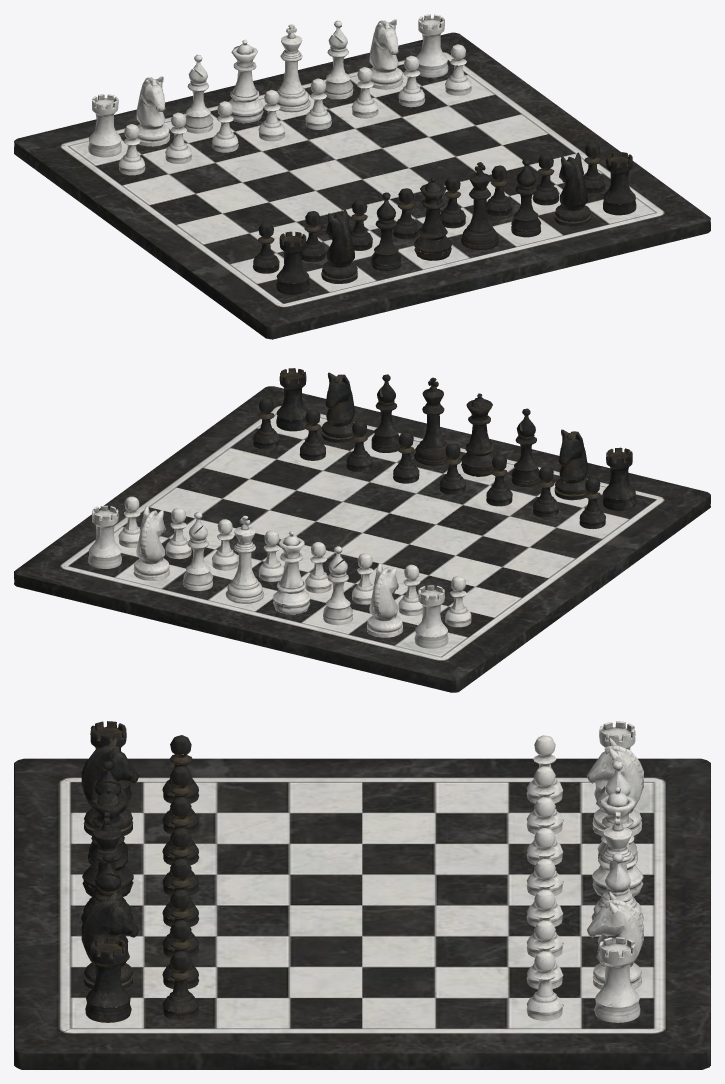
The model's file is chess_set.gltf.
The picture shows the model from 3 angles, top to bottom: view 1: azimuth 30°, elevation 25°; view 2: azimuth 150°, elevation 25°; view 3: azimuth 270°, elevation 25°; orthographic projection. The views are drawn at different scales.
Visible parts, largest first — view 1: board, piece_queen_black, piece_knight_black_01, piece_knight_black_02, piece_queen_white, piece_knight_white_01, piece_knight_white_02, piece_king_black, piece_king_white, piece_rook_black_02, piece_rook_black_01, piece_rook_white_02 (+21 smaller); view 2: board, piece_queen_white, piece_knight_white_02, piece_knight_white_01, piece_queen_black, piece_knight_black_02, piece_knight_black_01, piece_king_white, piece_king_black, piece_rook_white_02, piece_rook_black_01, piece_rook_white_01 (+21 smaller); view 3: board, piece_rook_white_01, piece_rook_black_02, piece_knight_black_02, piece_knight_white_01, piece_knight_white_02, piece_knight_black_01, piece_queen_white, piece_queen_black, piece_pawn_black_08, piece_pawn_white_01, piece_king_black (+21 smaller).
Boxes of the visible parts, x1=… form: board: x1=14, y1=32, x2=710, y2=339; piece_queen_black: x1=414, y1=177, x2=451, y2=260; piece_knight_black_01: x1=321, y1=209, x2=357, y2=283; piece_knight_black_02: x1=554, y1=152, x2=590, y2=227; piece_queen_white: x1=228, y1=39, x2=263, y2=123; piece_knight_white_01: x1=369, y1=19, x2=403, y2=89; piece_knight_white_02: x1=136, y1=76, x2=169, y2=146; piece_king_black: x1=461, y1=162, x2=499, y2=250; piece_king_white: x1=276, y1=24, x2=310, y2=112; piece_rook_black_02: x1=603, y1=152, x2=636, y2=215; piece_rook_black_01: x1=276, y1=231, x2=309, y2=294; piece_rook_white_02: x1=88, y1=94, x2=121, y2=157; board: x1=14, y1=386, x2=710, y2=692; piece_queen_white: x1=272, y1=531, x2=310, y2=614; piece_knight_white_02: x1=367, y1=563, x2=402, y2=637; piece_knight_white_01: x1=133, y1=506, x2=169, y2=580; piece_queen_black: x1=461, y1=393, x2=495, y2=476; piece_knight_black_02: x1=321, y1=372, x2=355, y2=443; piece_knight_black_01: x1=554, y1=429, x2=588, y2=500; piece_king_white: x1=225, y1=515, x2=264, y2=603; piece_king_black: x1=414, y1=377, x2=447, y2=465; piece_rook_white_02: x1=414, y1=585, x2=448, y2=648; piece_rook_black_01: x1=602, y1=447, x2=636, y2=510; piece_rook_white_01: x1=88, y1=505, x2=121, y2=568; board: x1=14, y1=758, x2=710, y2=1069; piece_rook_white_01: x1=594, y1=937, x2=640, y2=1022; piece_rook_black_02: x1=85, y1=937, x2=131, y2=1022; piece_knight_black_02: x1=81, y1=891, x2=138, y2=989; piece_knight_white_01: x1=587, y1=892, x2=643, y2=989; piece_knight_white_02: x1=587, y1=737, x2=643, y2=835; piece_knight_black_01: x1=81, y1=737, x2=138, y2=835; piece_queen_white: x1=592, y1=786, x2=643, y2=896; piece_queen_black: x1=82, y1=786, x2=133, y2=896; piece_pawn_black_08: x1=162, y1=951, x2=199, y2=1020; piece_pawn_white_01: x1=526, y1=951, x2=563, y2=1020; piece_king_black: x1=81, y1=811, x2=133, y2=922.
Size of the model in its own units: 0.5532 by 0.1121 by 0.5532.
Materials: 3 (3 with a texture image).
